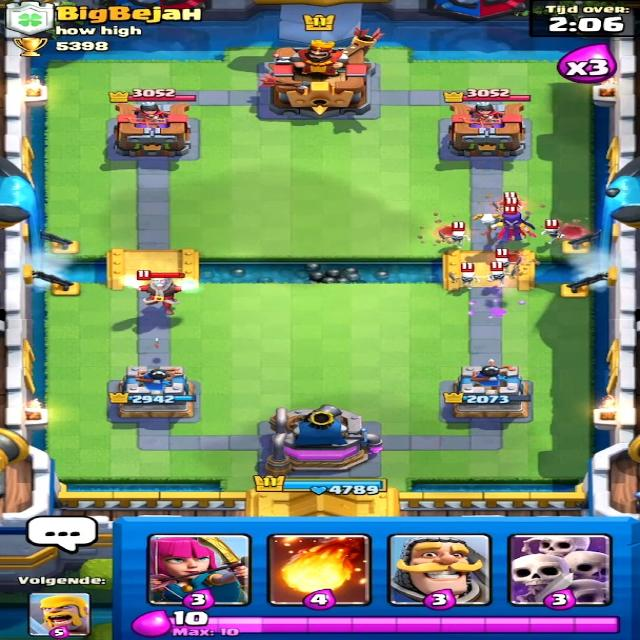Enemy_Ice_Wizard_Troop: (128, 274, 192, 312)
Enemy_Skeleton_Troop: (534, 221, 570, 245), (440, 223, 470, 250), (444, 264, 479, 287), (488, 266, 510, 284)
Enemy_Witch_Troop: (477, 213, 540, 248)
Fireball_Card: (270, 532, 368, 607)
